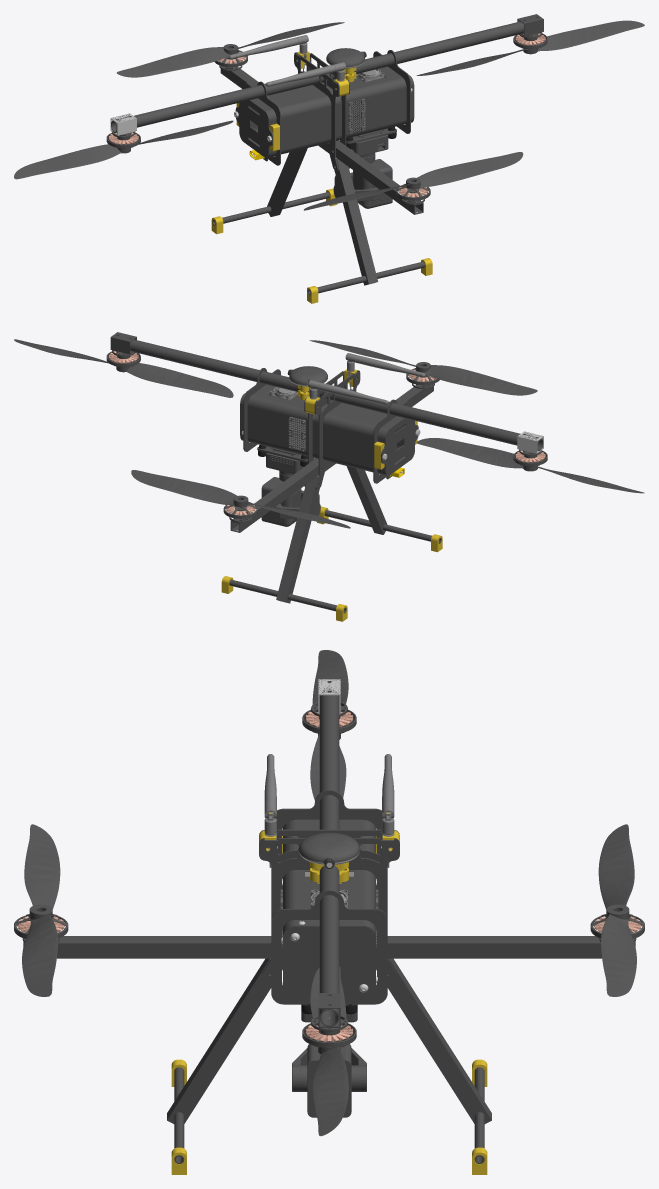
3 renders of one model, top to bottom at view 1: azimuth 30°, elevation 25°; view 2: azimuth 150°, elevation 25°; view 3: azimuth 270°, elevation 25°, orthographic. The views are drawn at different scales.
Visible parts, largest first — view 1: Node10, Node6, Node15, Node8, Node20, Node7; view 2: Node10, Node6, Node15, Node8, Node20, Node7; view 3: Node10, Node6, Node8, Node15, Node7.
Boxes of the visible parts, box(x1,y1,x2,y2) form: Node10: box(14, 14, 644, 295); Node6: box(106, 32, 547, 208); Node15: box(228, 35, 345, 101); Node8: box(211, 51, 432, 303); Node20: box(348, 98, 365, 133); Node7: box(110, 61, 412, 141); Node10: box(14, 332, 644, 613); Node6: box(106, 350, 547, 526); Node15: box(308, 353, 425, 419); Node8: box(221, 369, 442, 621); Node20: box(288, 416, 305, 451); Node7: box(241, 379, 543, 459); Node10: box(22, 650, 636, 1163); Node6: box(14, 702, 644, 1117); Node8: box(171, 830, 487, 1174); Node15: box(264, 754, 394, 867); Node7: box(281, 679, 377, 1018).
Bounding box in the file's own units: 939 × 289 × 515.
